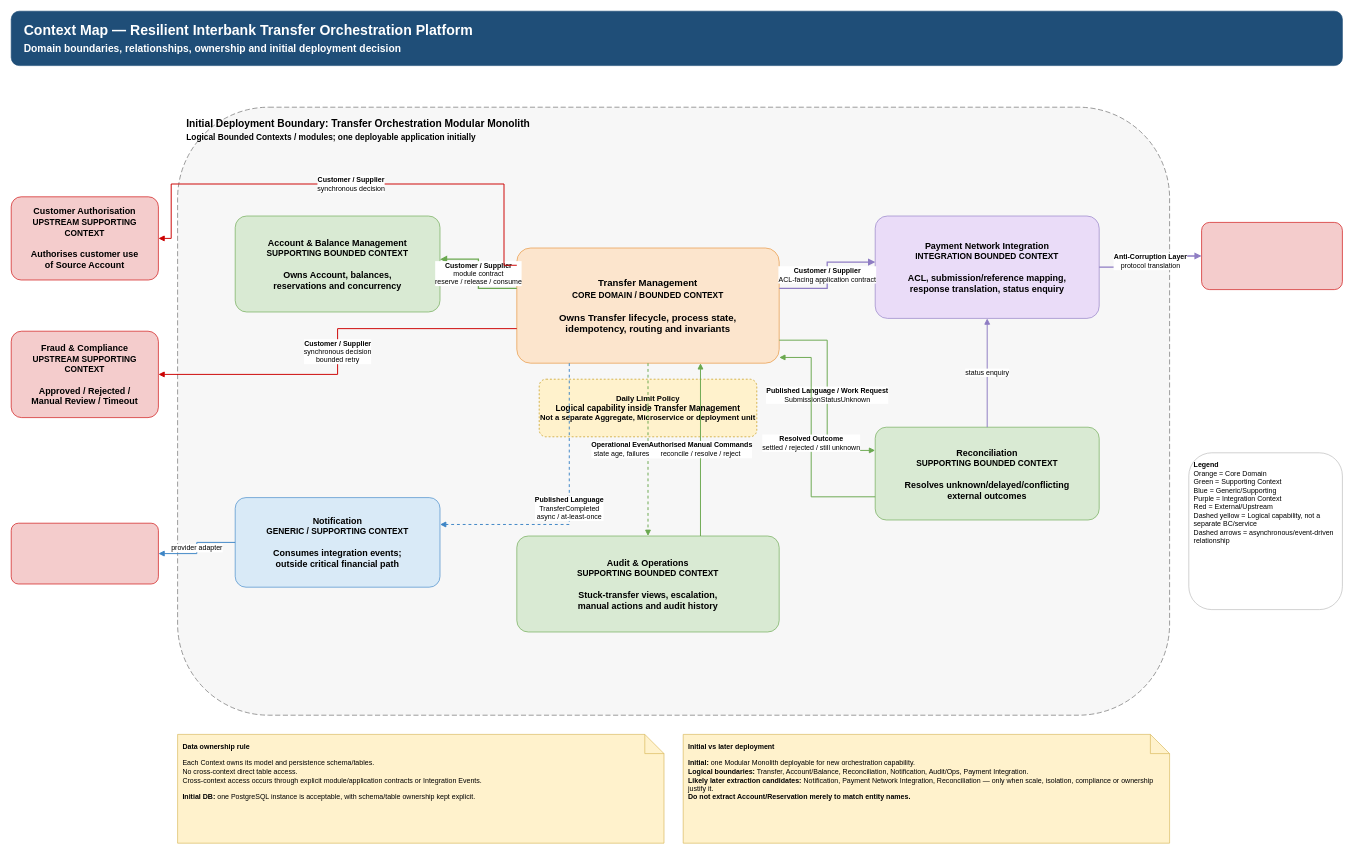
This 1354x854 diagram has some shape labels left out. Here are the shapes that lost their labels. From the top down, the box of each, then its label:
(1201, 222, 1342, 290): Domestic Payment Network EXTERNAL SYSTEM
(11, 523, 158, 584): Notification Provider EXTERNAL SYSTEM
